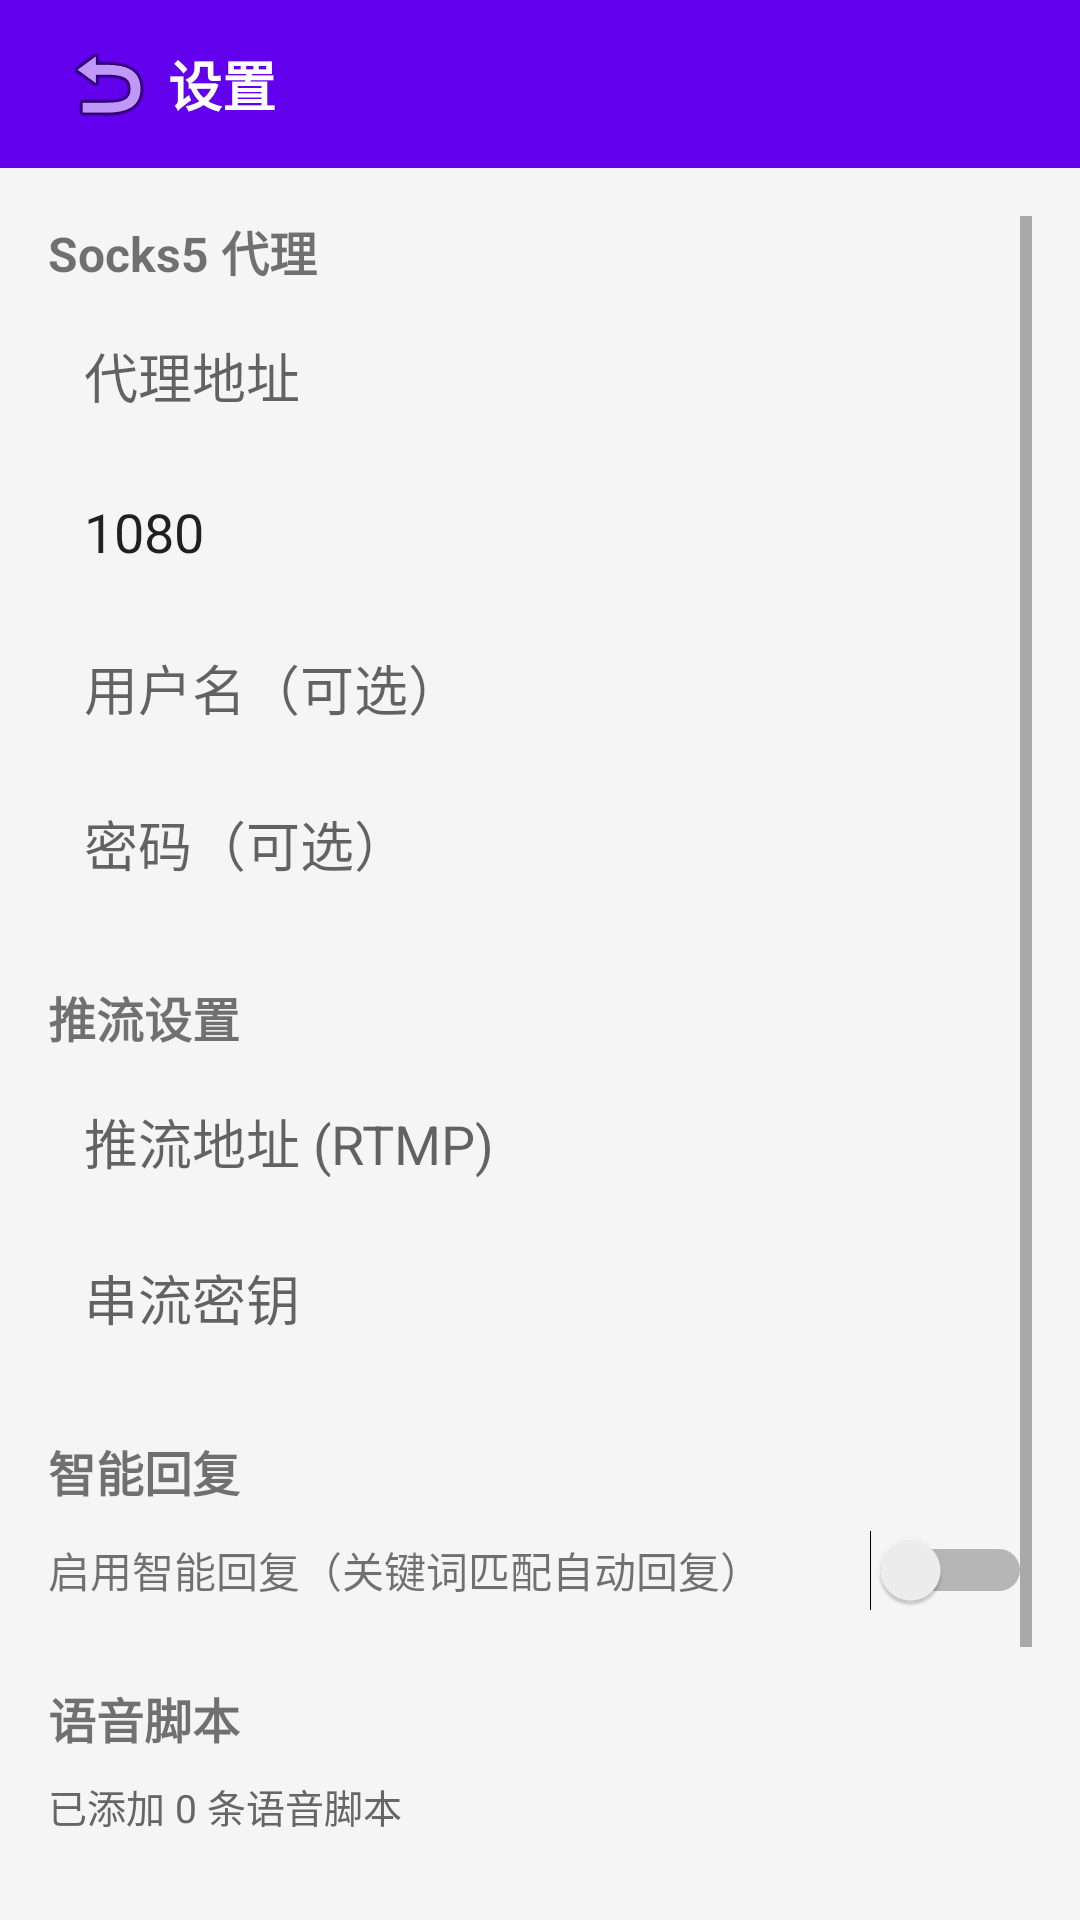

Icons on this 1080px×1920px Android screen, each with the point to tap as [x,y]:
revert: [109,84]
